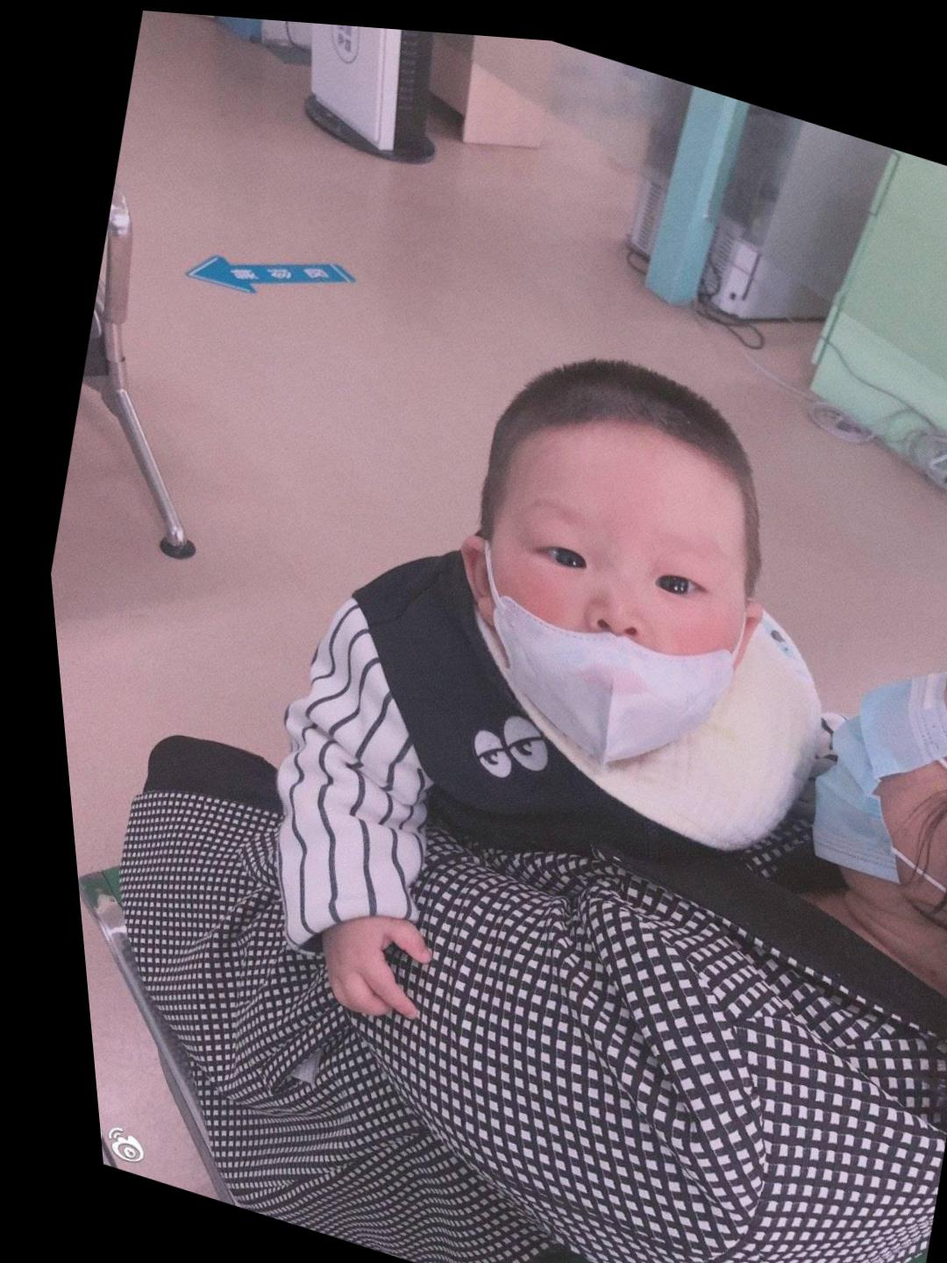OK: (773, 600, 947, 922)
WRONG: (437, 459, 760, 787)
